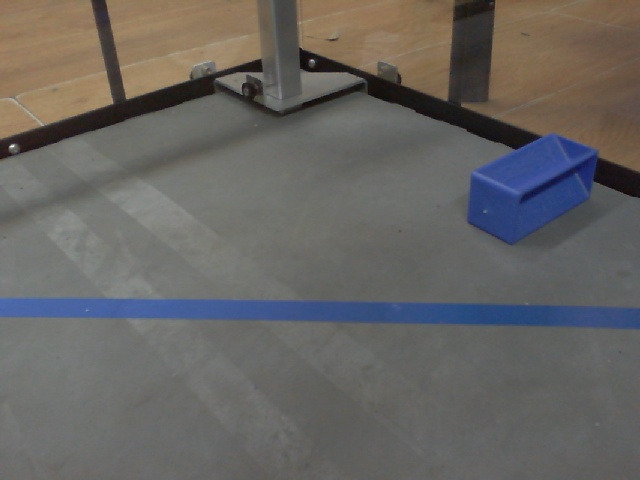BlueSample: (463, 127, 597, 249)
